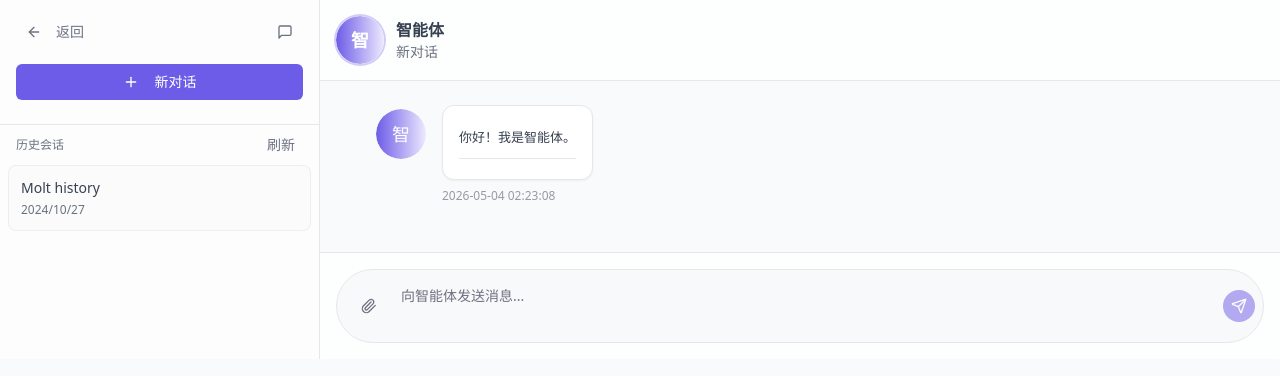
Test: EnhancedChatWithSidebar Molt transport › loads Molt conversation history through MoltBrowserClient
The width and height of the screenshot is (1280, 376).
What coordinates should you click on to do the following:
click the heading "Molt history"
I would click on:
 (60, 188)
Its box is [21,178,100,197].
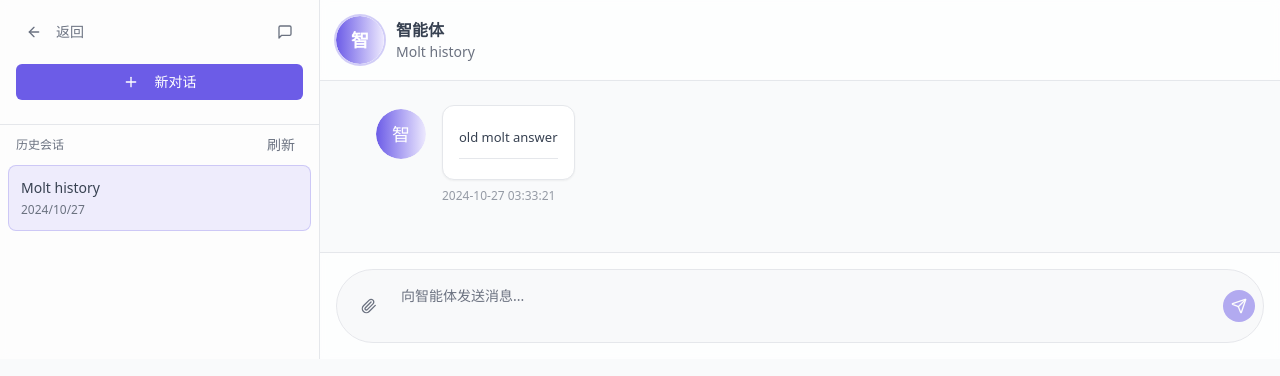
Expected: the text "old molt answer" is shown, [459,128,558,148]
